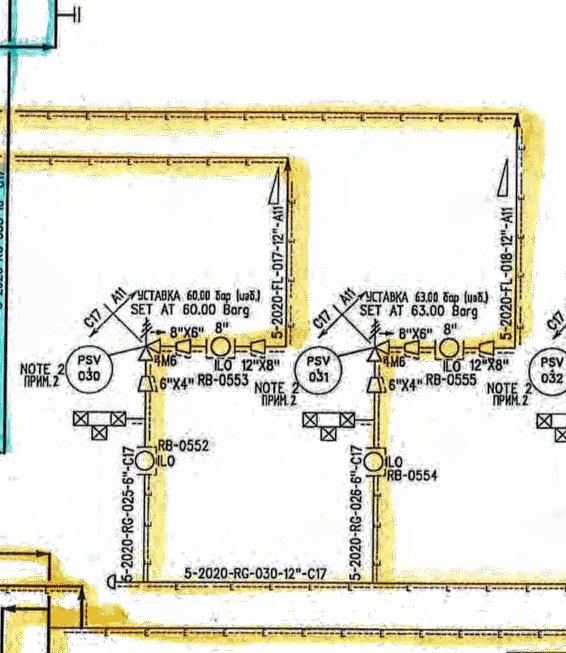2 WAY VALVE: (294, 403, 360, 445), (67, 404, 134, 442)
ANGLE RELIEF VALVE: (135, 311, 168, 371), (362, 312, 394, 368)
CONCENTRIC REDUCER: (399, 336, 425, 358), (247, 336, 272, 358), (173, 336, 195, 359), (136, 373, 157, 397), (474, 339, 501, 357), (366, 373, 386, 395)
END CAP: (104, 570, 121, 593)
FIELD INSTRUMENT: (291, 345, 347, 395), (64, 343, 116, 394), (207, 332, 234, 360), (133, 447, 155, 475), (439, 336, 463, 361), (362, 449, 386, 474)
